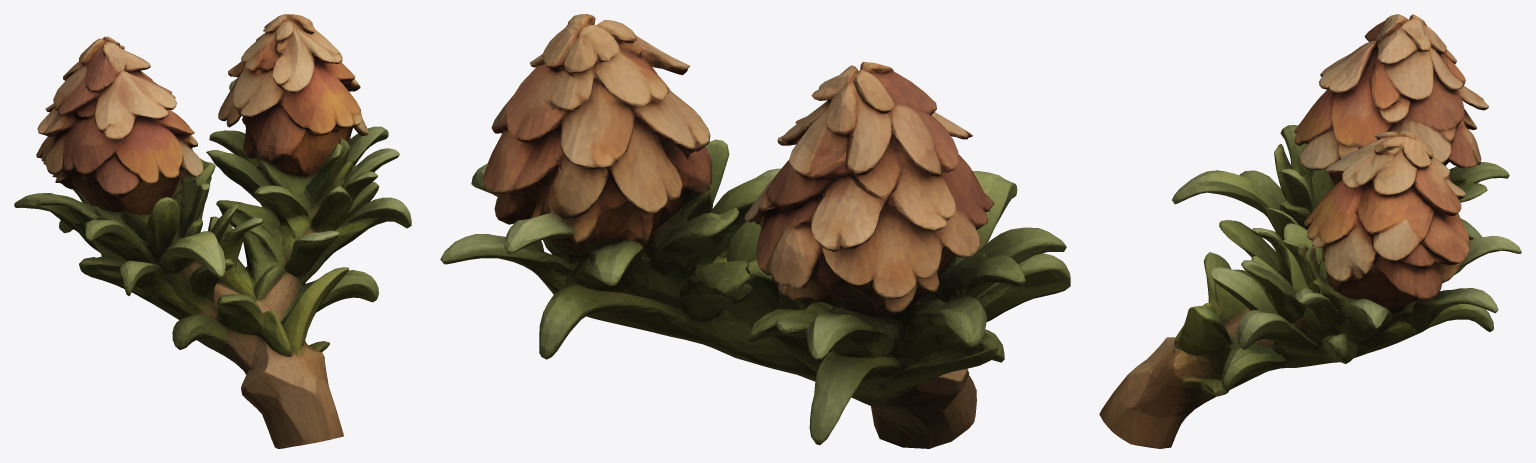
3 views of the same model, side by side, from view 1: azimuth 30°, elevation 25°; view 2: azimuth 150°, elevation 25°; view 3: azimuth 270°, elevation 25° (orthographic). The views are drawn at different scales.
Visible parts, largest first — view 1: world; view 2: world; view 3: world.
Part boxes in pixels (x1,y1,x2,y2): world: (14,14,411,448); world: (440,14,1070,448); world: (1099,14,1521,448).
Bounding box in the file's own units: 0.2381 × 0.22 × 0.2217.
1 material, 1 textured.
